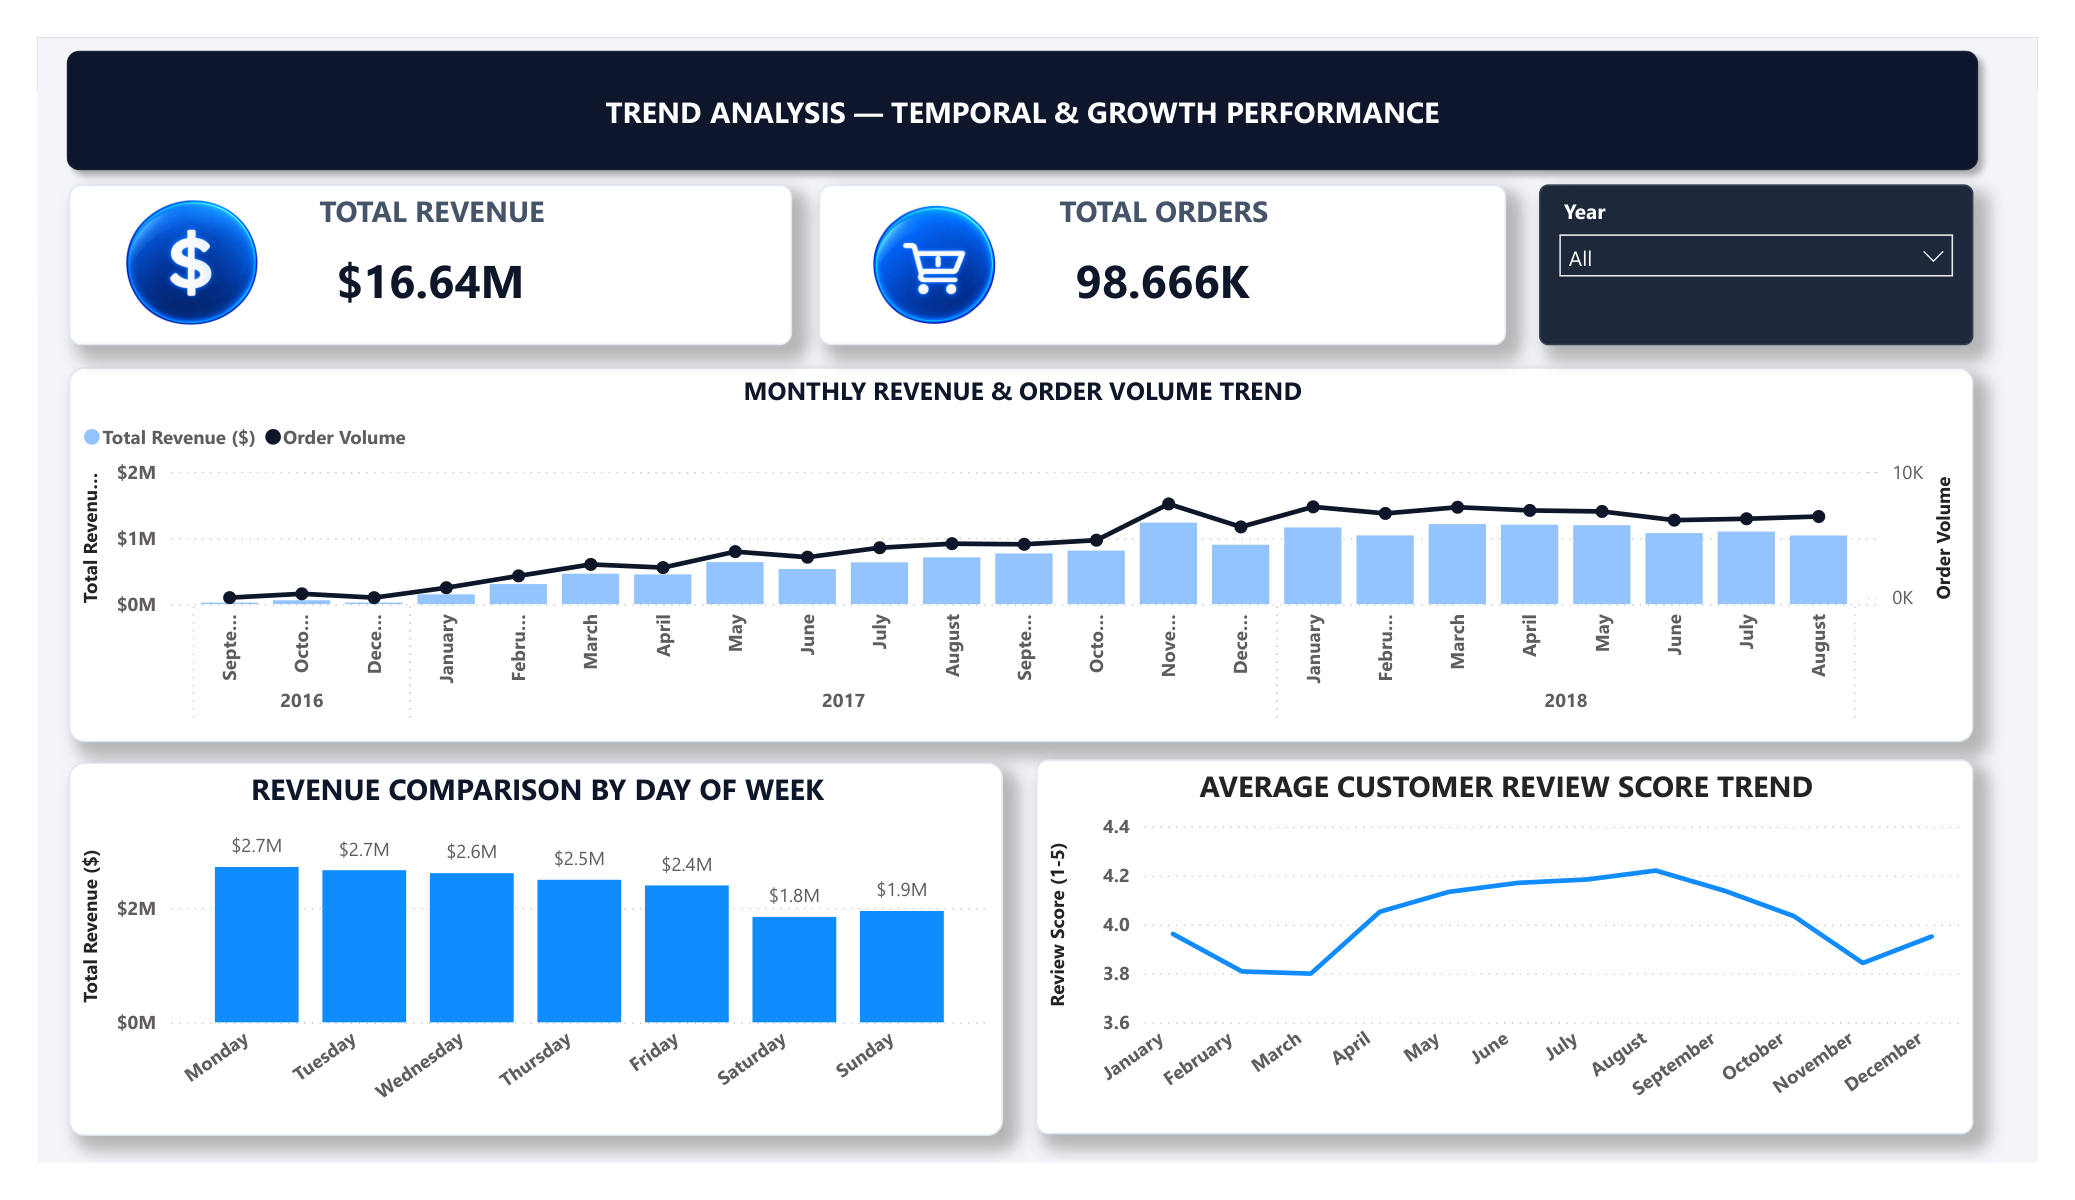

Layout of this report page (visuals, bound fields, positions):
{"tool":"powerbi","page":{"name":"Trend Analysis","canvas":[1280,720],"ordinal":1},"visuals":[{"type":"shape","box":[9.9,0,1240.6,93.6],"z":0},{"type":"lineClusteredColumnComboChart","title":"MONTHLY REVENUE & ORDER VOLUME TREND","fields":{"Y":["Sum(dm_sales_performance.total_order_value)"],"Y2":["Count(dm_sales_performance.order_id)"],"Category":["dm_sales_performance.order_date.Variation.Date Hierarchy.Year","dm_sales_performance.order_date.Variation.Date Hierarchy.Month"]},"box":[19.8,211.3,1219.3,239.6],"z":1000},{"type":"clusteredColumnChart","title":"REVENUE COMPARISON BY DAY OF WEEK","fields":{"Y":["Sum(dm_sales_performance.total_order_value)"],"Category":["dm_sales_performance.Day_Name"]},"box":[19.8,463.6,598.3,239.6],"z":2000},{"type":"slicer","title":"Year","fields":{"Values":["dm_sales_performance.year_number"]},"box":[961.3,93.6,277.9,103.5],"z":3000},{"type":"lineChart","title":"AVERAGE CUSTOMER REVIEW SCORE TREND","fields":{"Category":["dm_customer_insights.purchase_date.Variation.Date Hierarchy.Year","dm_customer_insights.purchase_date.Variation.Date Hierarchy.Month"],"Y":["Avg(dm_sales_performance.review_score)"]},"box":[639.4,462.2,599.7,239.6],"z":4000},{"type":"cardVisual","title":"TOTAL REVENUE","fields":{"Data":["Sum(dm_sales_performance.total_order_value)"]},"box":[19.8,93.6,463.6,103.5],"z":5000},{"type":"cardVisual","title":"TOTAL ORDERS","fields":{"Data":["Count(dm_sales_performance.order_id)"]},"box":[500.5,93.6,439.5,103.5],"z":6000},{"type":"image","box":[31.2,99.2,134.7,89.3],"z":7000},{"type":"image","box":[510.4,99.2,129,92.2],"z":8000}]}

Visuals, with their boxes on the page's 1280x720 design canvas (x1, y1, x2, y2). These are canvas units, not pixel positions in the 2075x1200 screenshot, which may show the page scaled, cropped or inside an application window:
shape: detection(10, 0, 1250, 94)
"MONTHLY REVENUE & ORDER VOLUME TREND" lineClusteredColumnComboChart: detection(20, 211, 1239, 451)
"REVENUE COMPARISON BY DAY OF WEEK" clusteredColumnChart: detection(20, 464, 618, 703)
"Year" slicer: detection(961, 94, 1239, 197)
"AVERAGE CUSTOMER REVIEW SCORE TREND" lineChart: detection(639, 462, 1239, 702)
"TOTAL REVENUE" cardVisual: detection(20, 94, 483, 197)
"TOTAL ORDERS" cardVisual: detection(500, 94, 940, 197)
image: detection(31, 99, 166, 188)
image: detection(510, 99, 639, 191)
